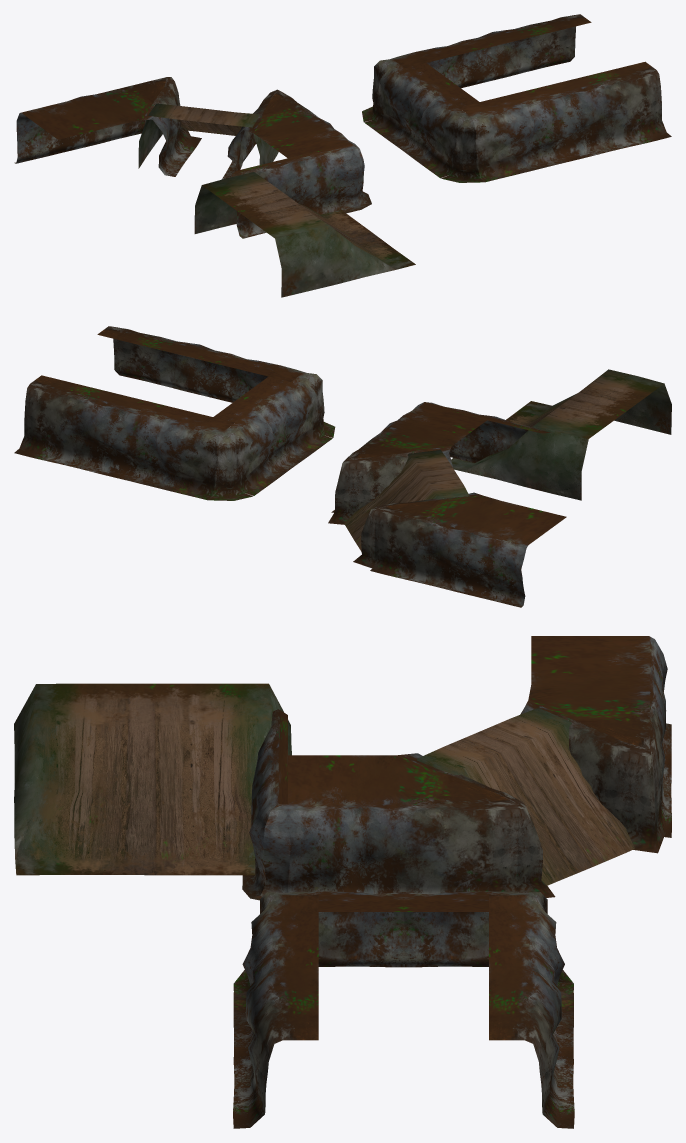
The model's file is Stage_Block_2_5.fbx.
The picture shows the model from 3 angles, top to bottom: view 1: azimuth 30°, elevation 25°; view 2: azimuth 150°, elevation 25°; view 3: azimuth 270°, elevation 25°; orthographic projection. The views are drawn at different scales.
Parts seen in each view (by area): view 1: Stage_Block_2_5; view 2: Stage_Block_2_5; view 3: Stage_Block_2_5.
Part boxes in pixels (x1,y1,x2,y2): Stage_Block_2_5: [14, 14, 671, 297]; Stage_Block_2_5: [14, 326, 671, 607]; Stage_Block_2_5: [14, 636, 671, 1128].
Bounding box in the file's own units: 5011 × 511 × 3445.
Materials: 2 (2 with a texture image).
